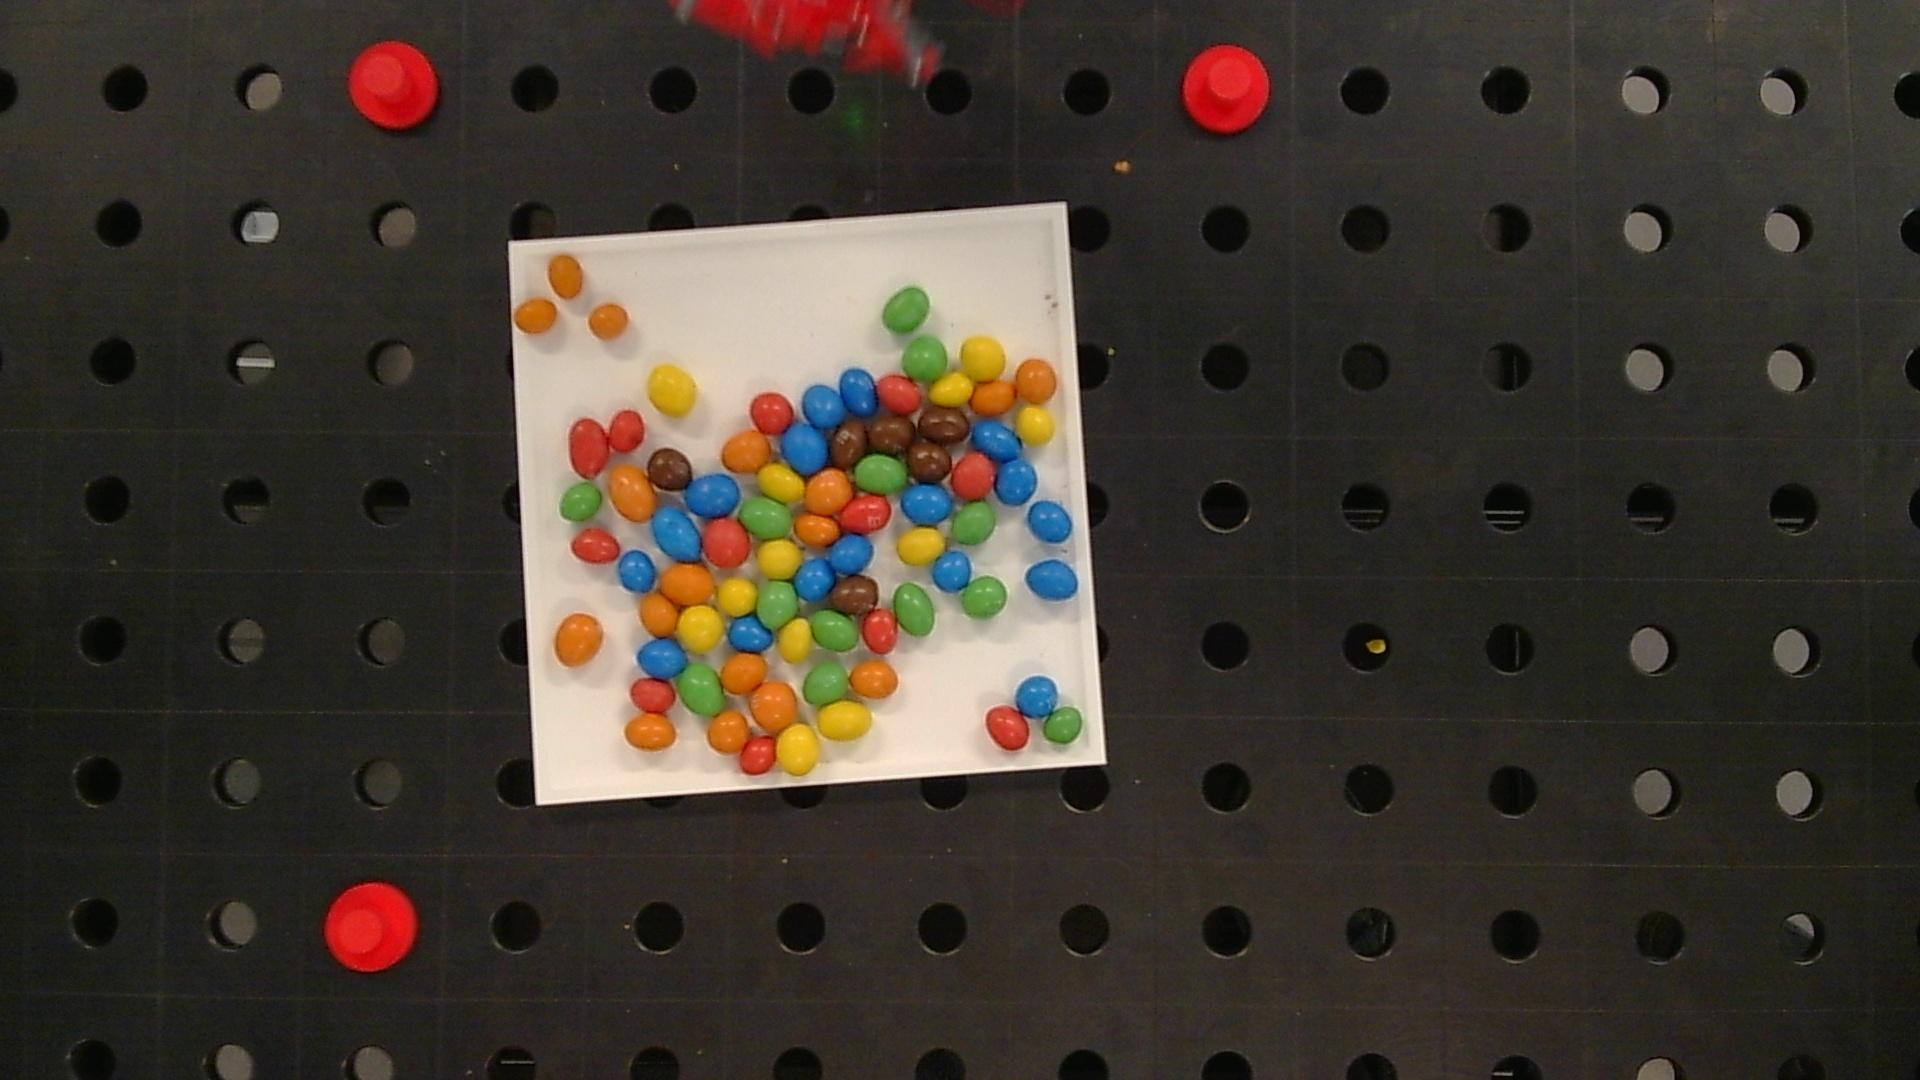blue: (653, 508, 702, 560), (686, 473, 741, 516), (782, 425, 828, 472), (1026, 559, 1079, 600), (901, 484, 952, 522), (1027, 501, 1072, 543), (971, 422, 1019, 460), (638, 638, 686, 676), (996, 460, 1036, 504), (840, 368, 877, 415), (803, 385, 844, 427), (1015, 675, 1058, 716), (795, 558, 835, 600), (831, 534, 873, 574), (618, 550, 655, 592), (728, 616, 773, 650), (932, 551, 971, 591)
brown: (647, 447, 692, 491), (907, 440, 952, 483), (920, 406, 969, 443), (869, 415, 914, 454), (833, 576, 878, 615), (832, 421, 866, 465)
green: (679, 663, 724, 713), (893, 583, 935, 636), (881, 287, 930, 332), (740, 497, 793, 538), (855, 454, 907, 492), (803, 662, 848, 705), (811, 609, 857, 651), (903, 336, 947, 380), (951, 502, 996, 545), (961, 576, 1007, 617), (758, 582, 798, 626), (559, 483, 601, 522), (1043, 707, 1084, 745)
orange: (608, 464, 655, 521), (555, 613, 603, 665), (750, 682, 796, 731), (661, 564, 715, 604), (804, 469, 852, 512), (723, 430, 770, 471), (624, 715, 676, 750), (1015, 359, 1058, 402), (849, 661, 898, 698), (707, 711, 749, 753), (721, 654, 766, 694), (969, 380, 1015, 415), (641, 592, 678, 636), (547, 255, 584, 297), (587, 303, 629, 339), (513, 299, 556, 334), (794, 514, 839, 546)
red: (568, 417, 608, 477), (703, 520, 749, 566), (985, 705, 1030, 749), (951, 455, 994, 498), (841, 495, 890, 533), (750, 392, 794, 433), (876, 375, 922, 413), (571, 529, 620, 563), (629, 678, 675, 712), (608, 409, 645, 451), (862, 608, 897, 653), (740, 737, 777, 774)
yellow: (647, 365, 696, 417), (816, 700, 872, 740), (777, 724, 819, 775), (678, 605, 724, 651), (961, 336, 1006, 380), (758, 463, 804, 501), (757, 539, 800, 579), (897, 529, 944, 564), (778, 618, 812, 662), (1018, 406, 1055, 444), (717, 578, 756, 615), (930, 373, 972, 405)
